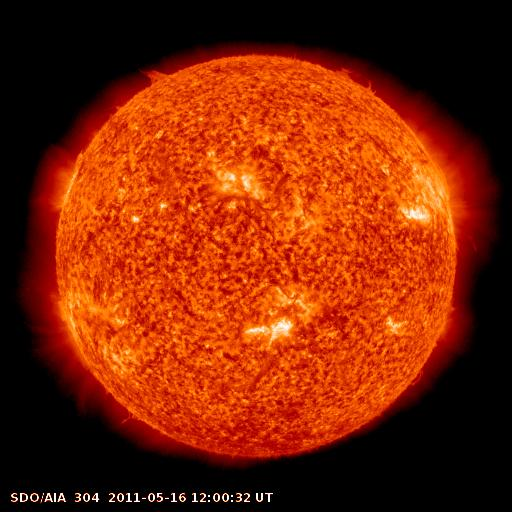prominence: (329, 55, 387, 97), (133, 59, 177, 88)
